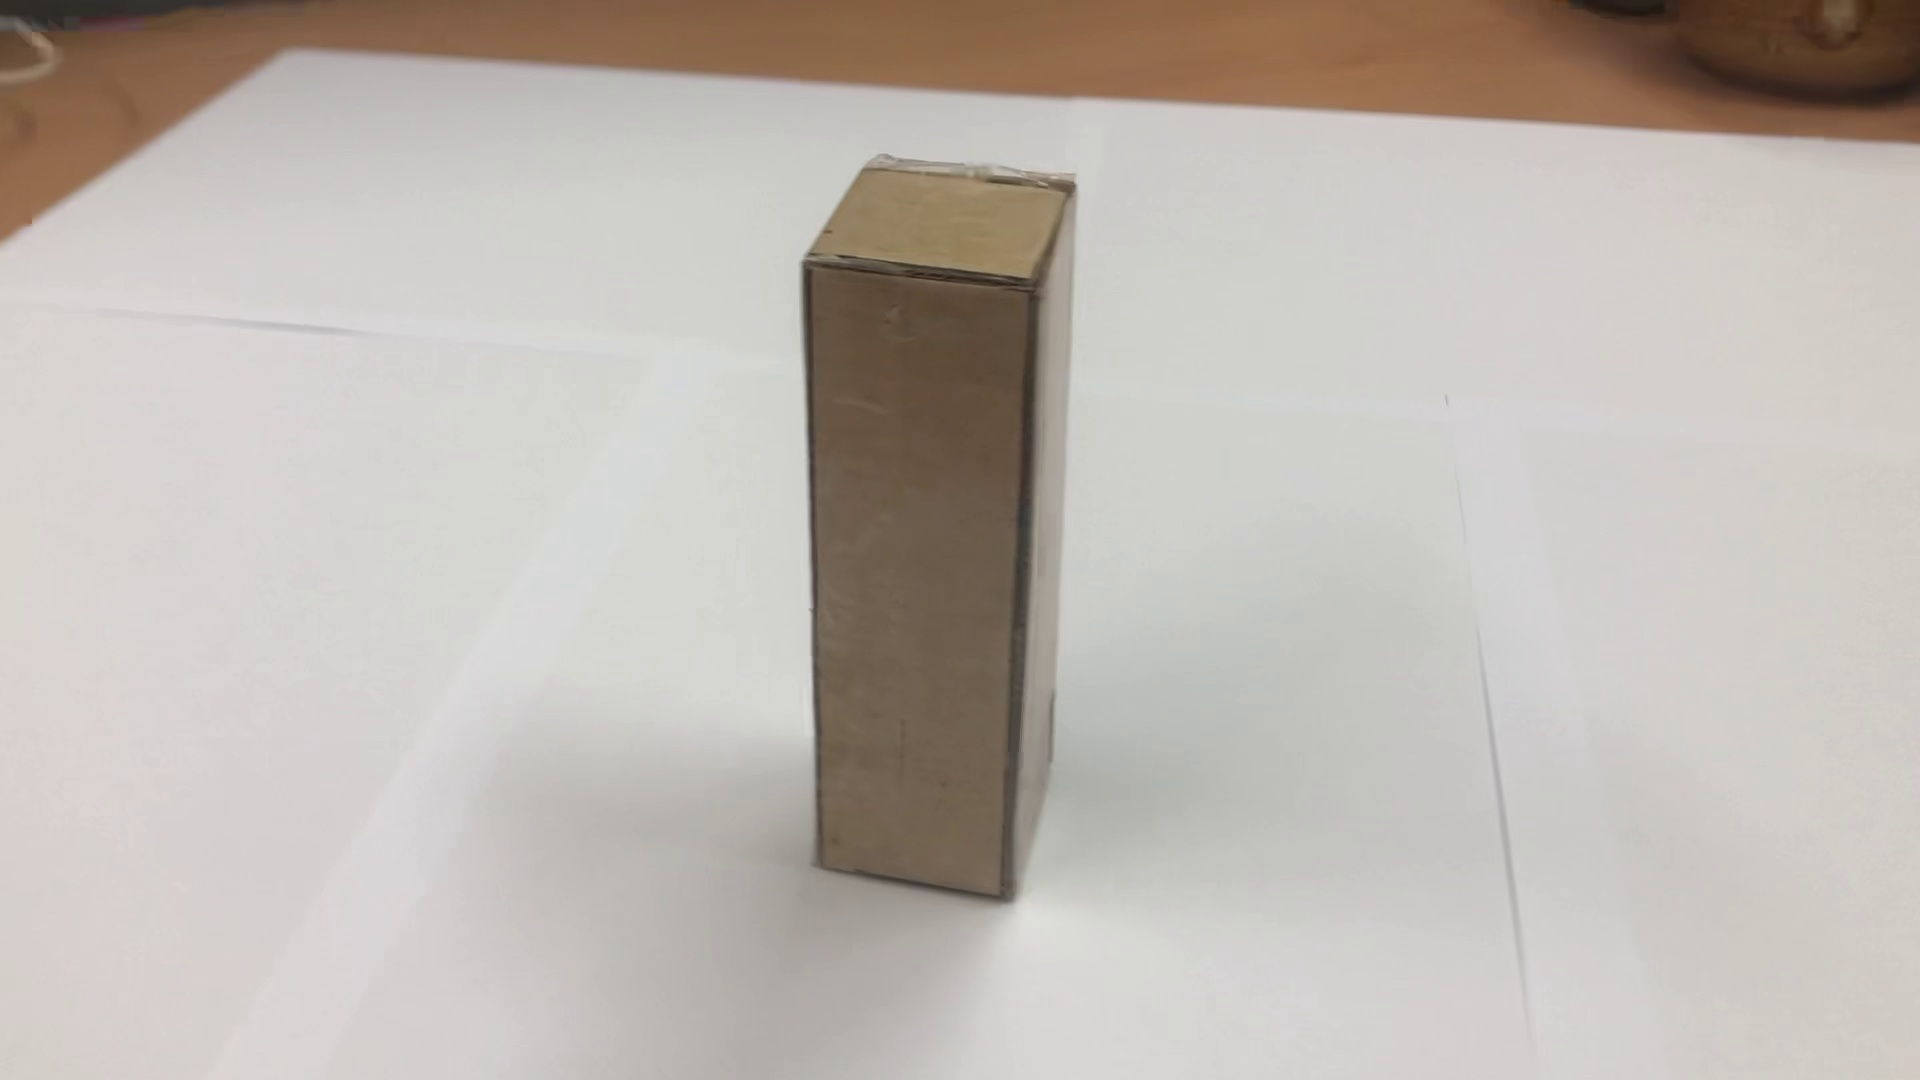box: (767, 142, 1093, 910)
